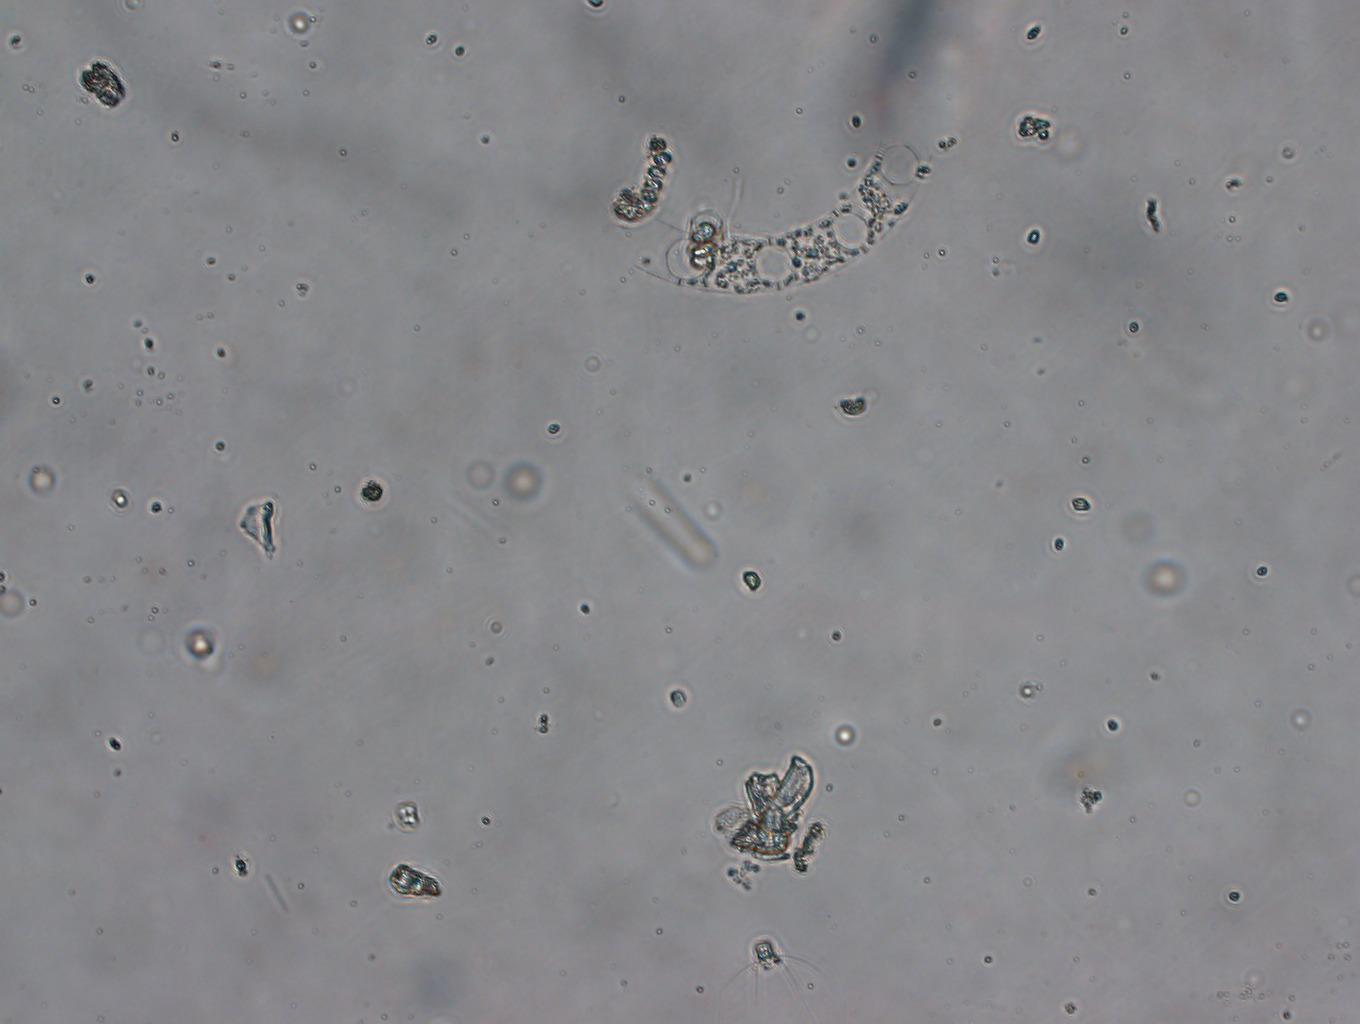eucampia: (622, 136, 974, 296)
